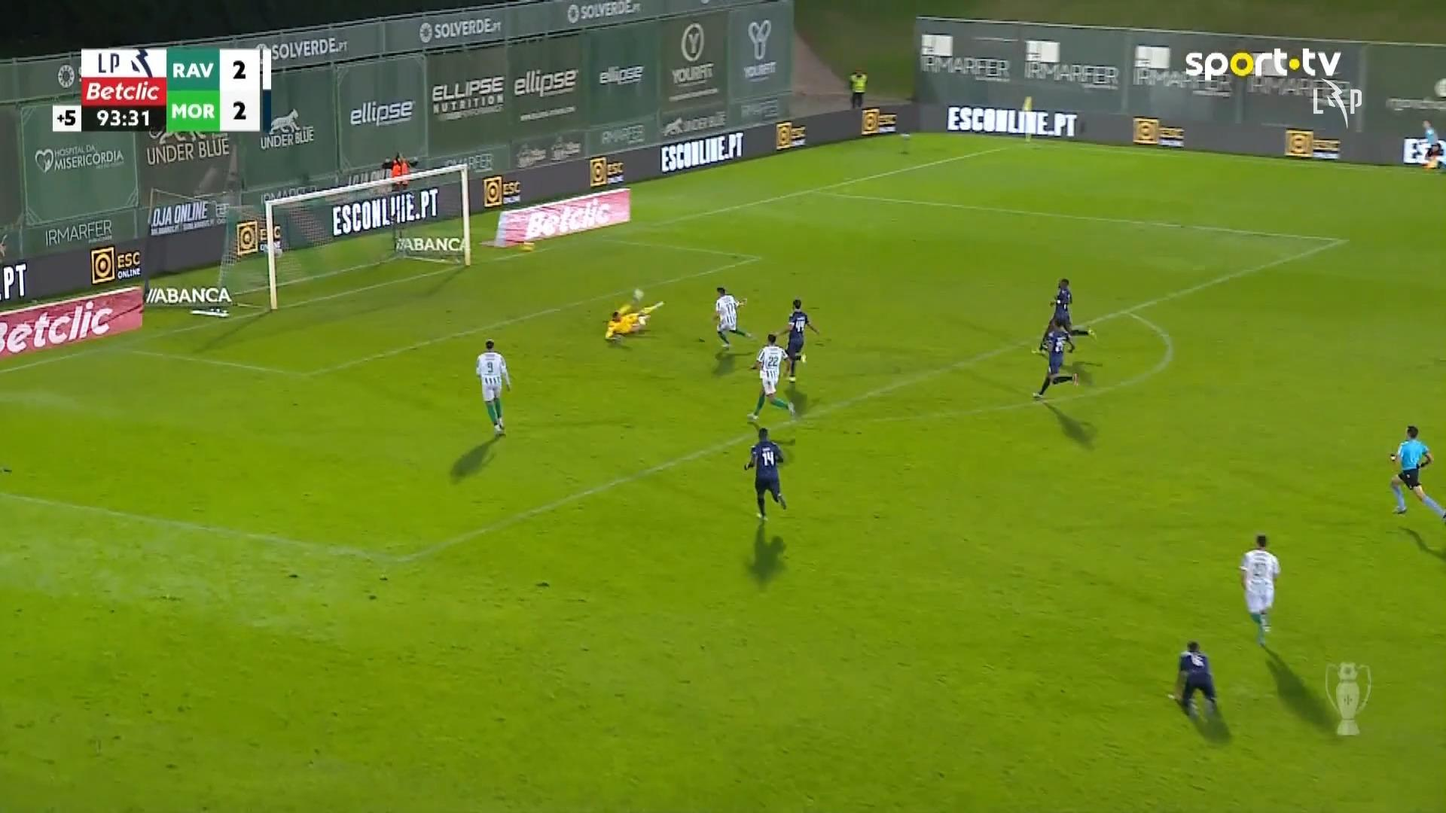ball: (520, 241, 535, 252)
goalkeeper: (603, 288, 664, 343)
player: (1237, 533, 1280, 647), (1034, 278, 1097, 354), (746, 333, 795, 422), (743, 426, 787, 519), (1170, 639, 1218, 717), (474, 339, 511, 436), (1031, 325, 1078, 399), (780, 297, 819, 382), (712, 285, 753, 349)
referee: (1387, 424, 1444, 521)
